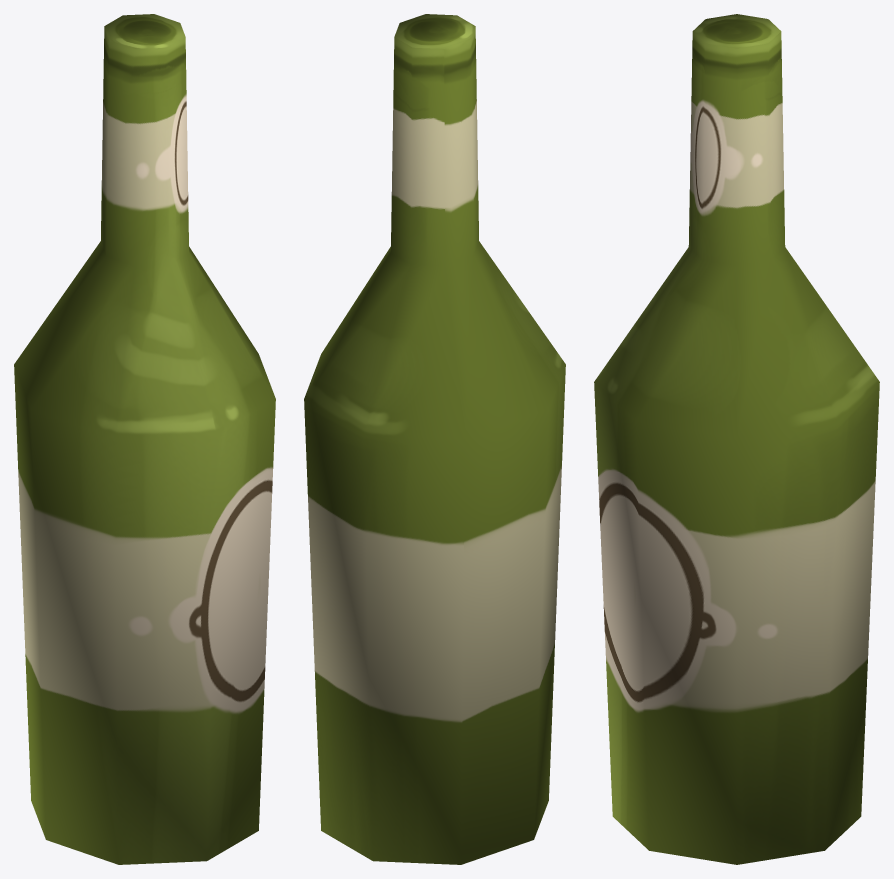
File: bottle.FBX
3 views of the same model, side by side, from view 1: azimuth 30°, elevation 25°; view 2: azimuth 150°, elevation 25°; view 3: azimuth 270°, elevation 25° (orthographic).
Visible parts, largest first — view 1: Cylinder008; view 2: Cylinder008; view 3: Cylinder008.
Part boxes in pixels (bbox=[...]): Cylinder008: bbox=[14, 14, 275, 864]; Cylinder008: bbox=[304, 14, 565, 864]; Cylinder008: bbox=[594, 14, 879, 864].
Bounding box in the file's own units: 1.58 × 5.21 × 1.72.
